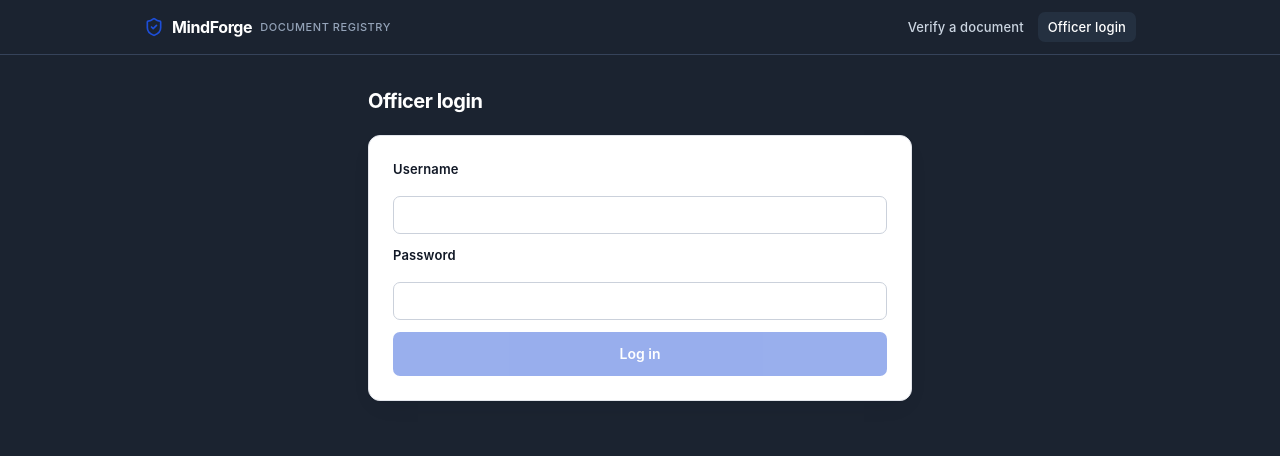
Test case: dashboard › shows the counts and the documents, each with a link to its page
Type "officer" into the field labelled "Username" at (640, 215), box [393, 196, 887, 234]
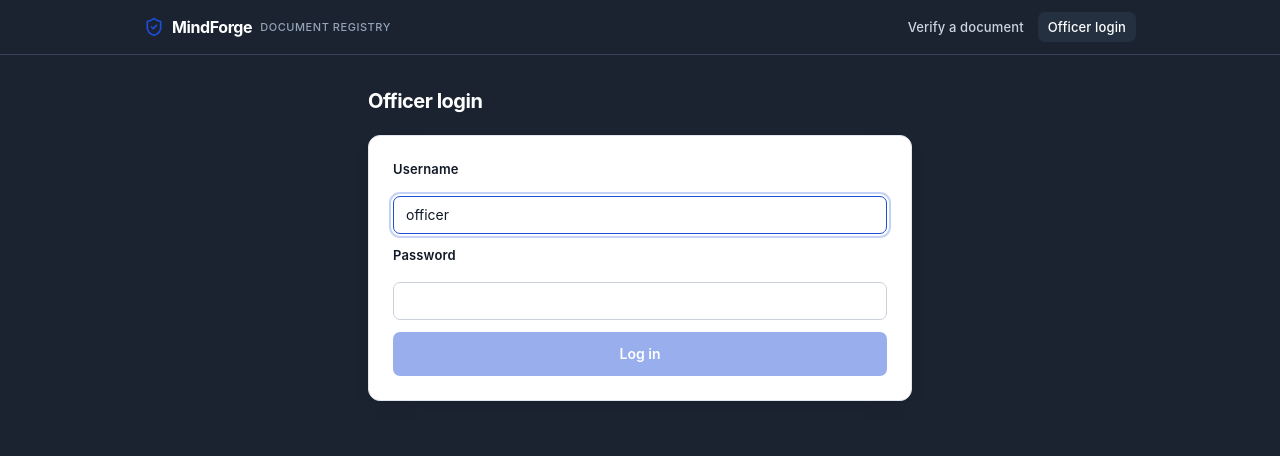
Type "correct horse" into the password field labelled "Password" at (640, 301), box [393, 282, 887, 320]
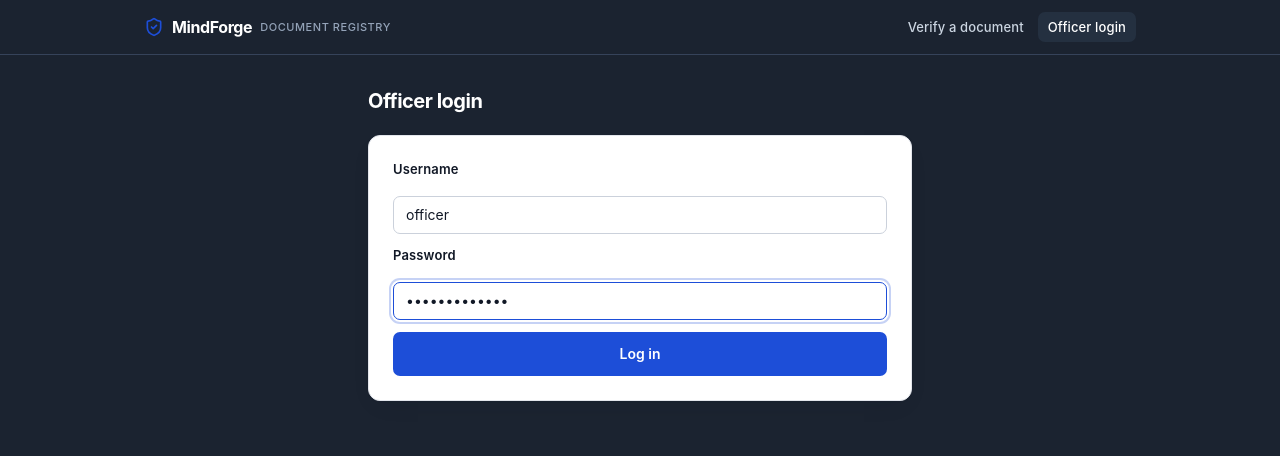
Click the button "Log in" at (640, 354), box [393, 332, 887, 376]
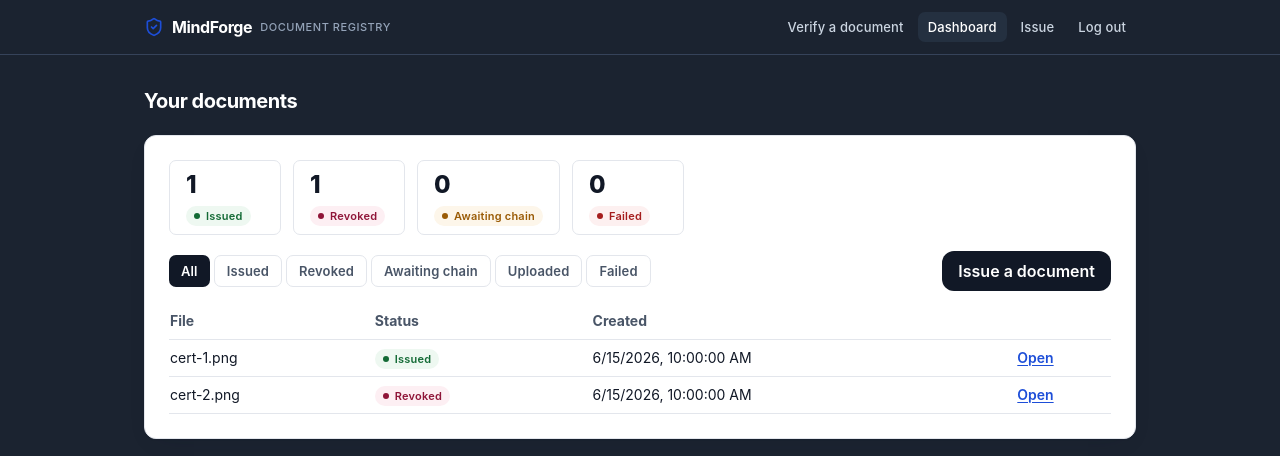
Check: the text "cert-1.png" is shown, box [169, 340, 374, 376]
Check: the text with test id "count-REVOKED" reads "1", box [310, 170, 321, 199]
Check: the text "Revoked" is shown, box [375, 386, 450, 406]
